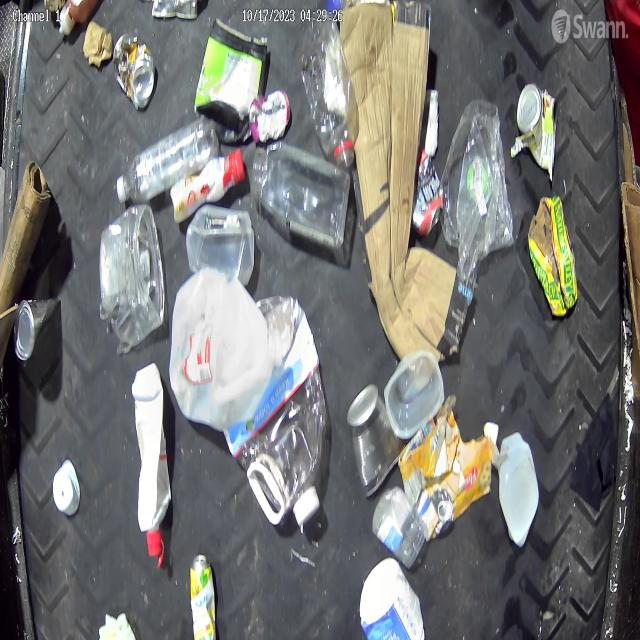can: (350, 381, 404, 496), (516, 80, 556, 172), (114, 33, 154, 110), (189, 551, 218, 640), (249, 88, 292, 147), (13, 302, 44, 366)
milk_jug: (172, 266, 273, 428), (361, 556, 429, 640), (497, 432, 538, 544)
plastic_bottle: (115, 118, 222, 206), (301, 14, 358, 167)
